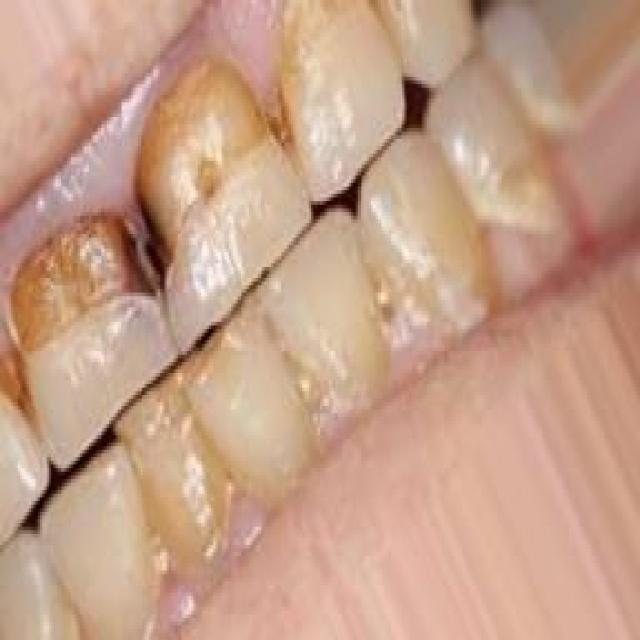caries: (133, 68, 270, 270), (11, 205, 155, 334)
